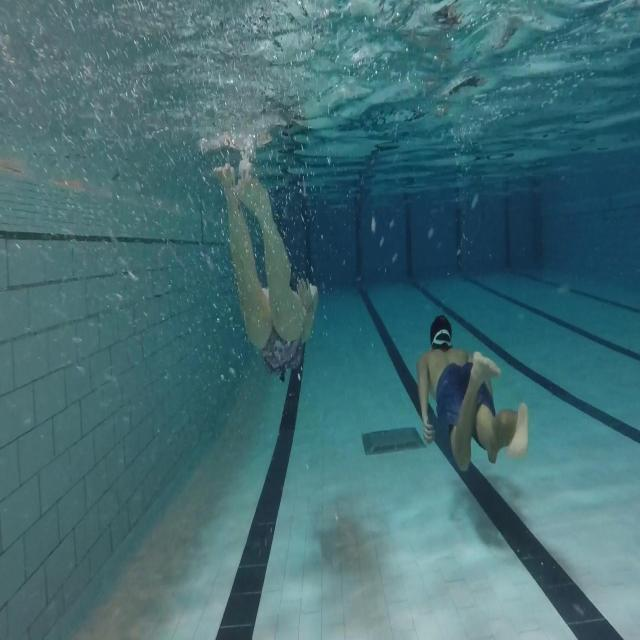human: (212, 157, 319, 382), (416, 314, 529, 472)
